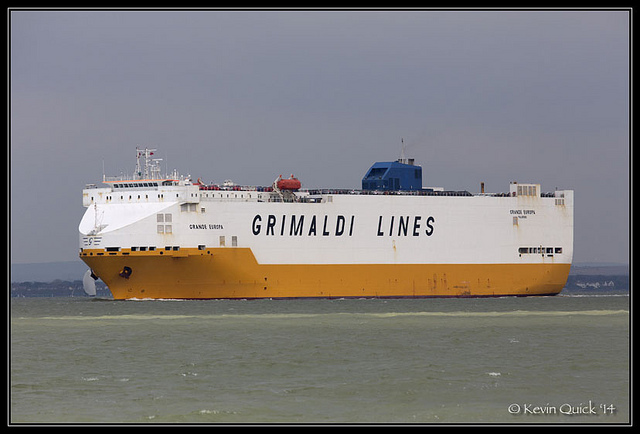PCC: (74, 142, 587, 297)
